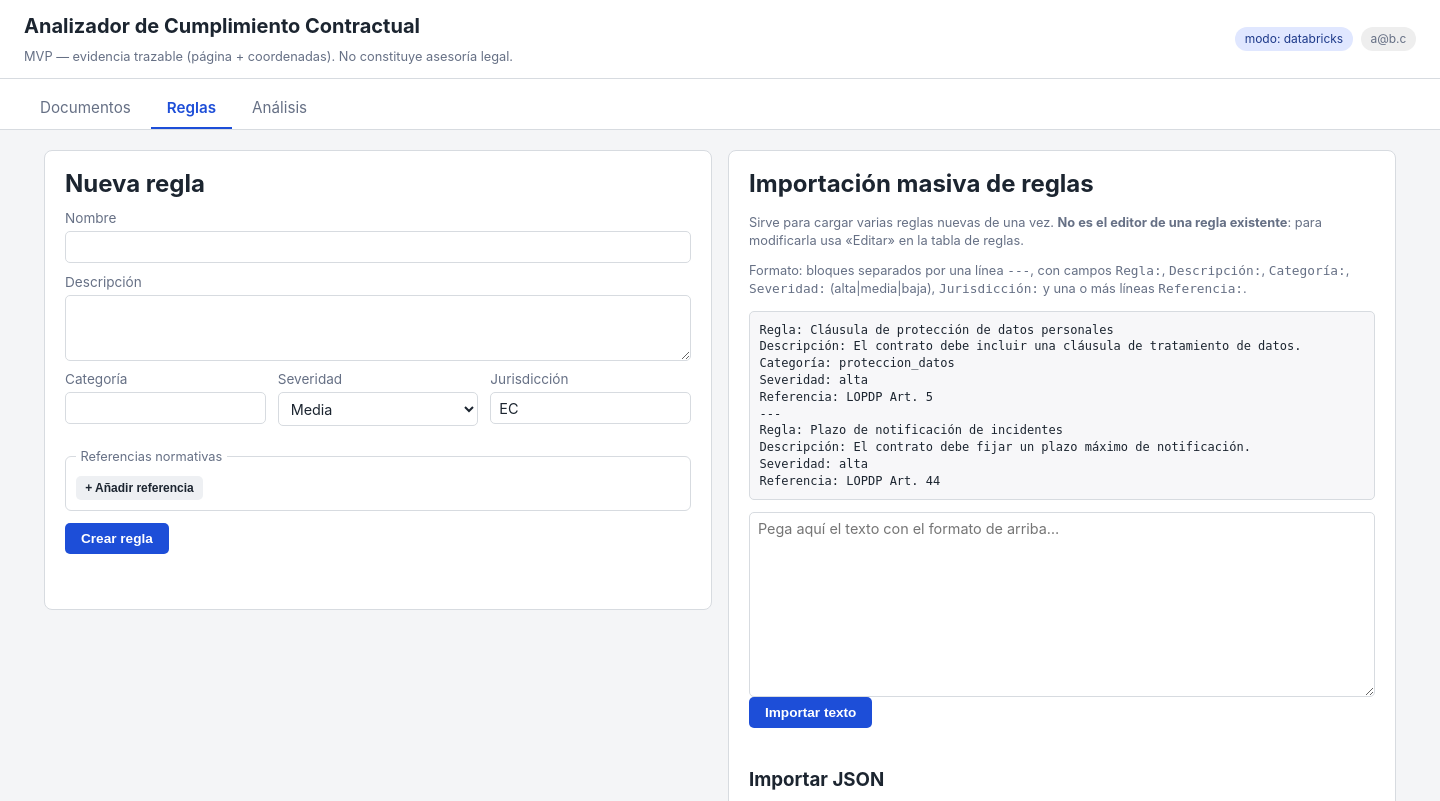
Scenario: App › la importación de reglas en texto lista los errores de formato por bloque
In the text box named "Texto de reglas": {"x": 1062, "y": 604} [749,512,1375,697], type "Regla: x"
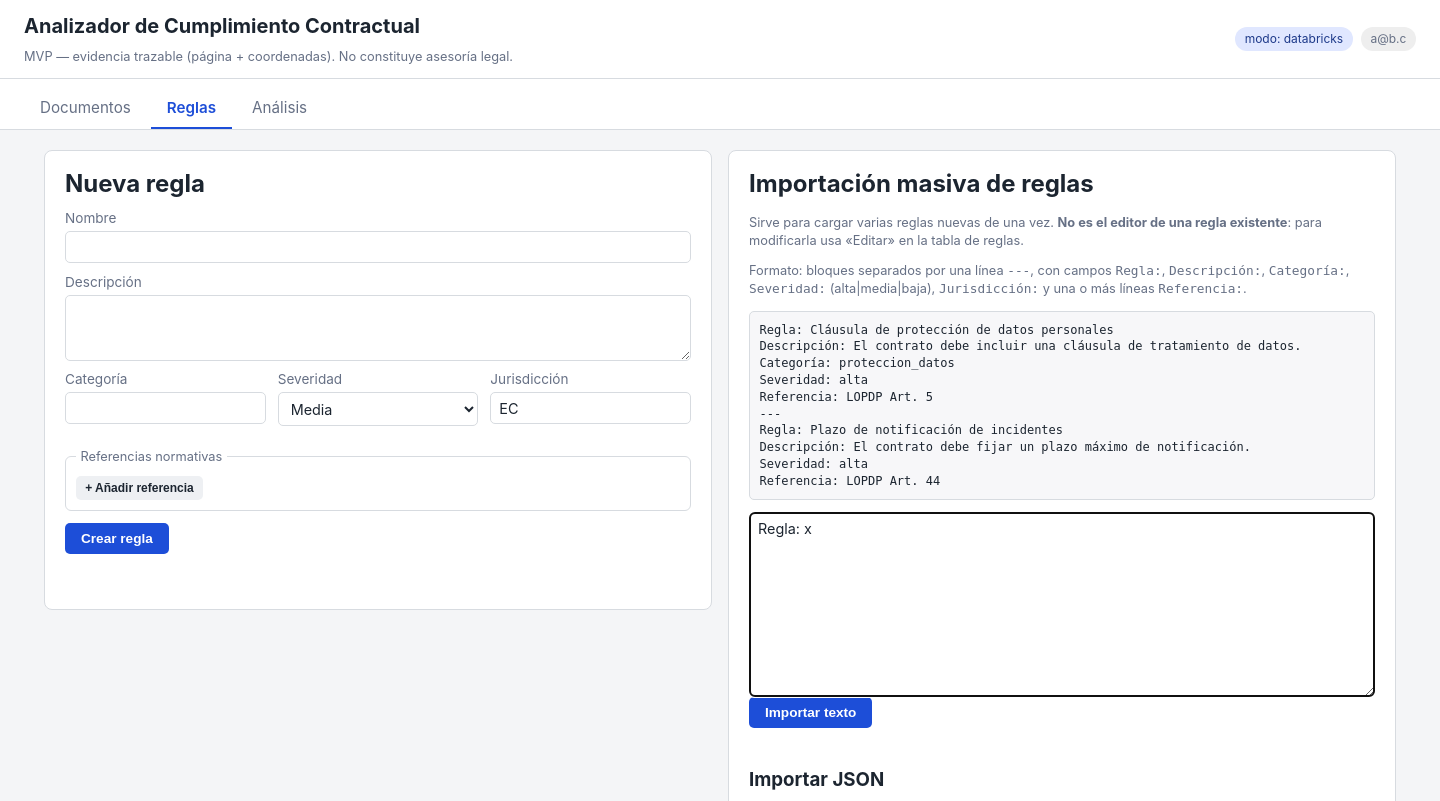
Click the button "Importar texto": {"x": 811, "y": 712} [749,697,872,728]
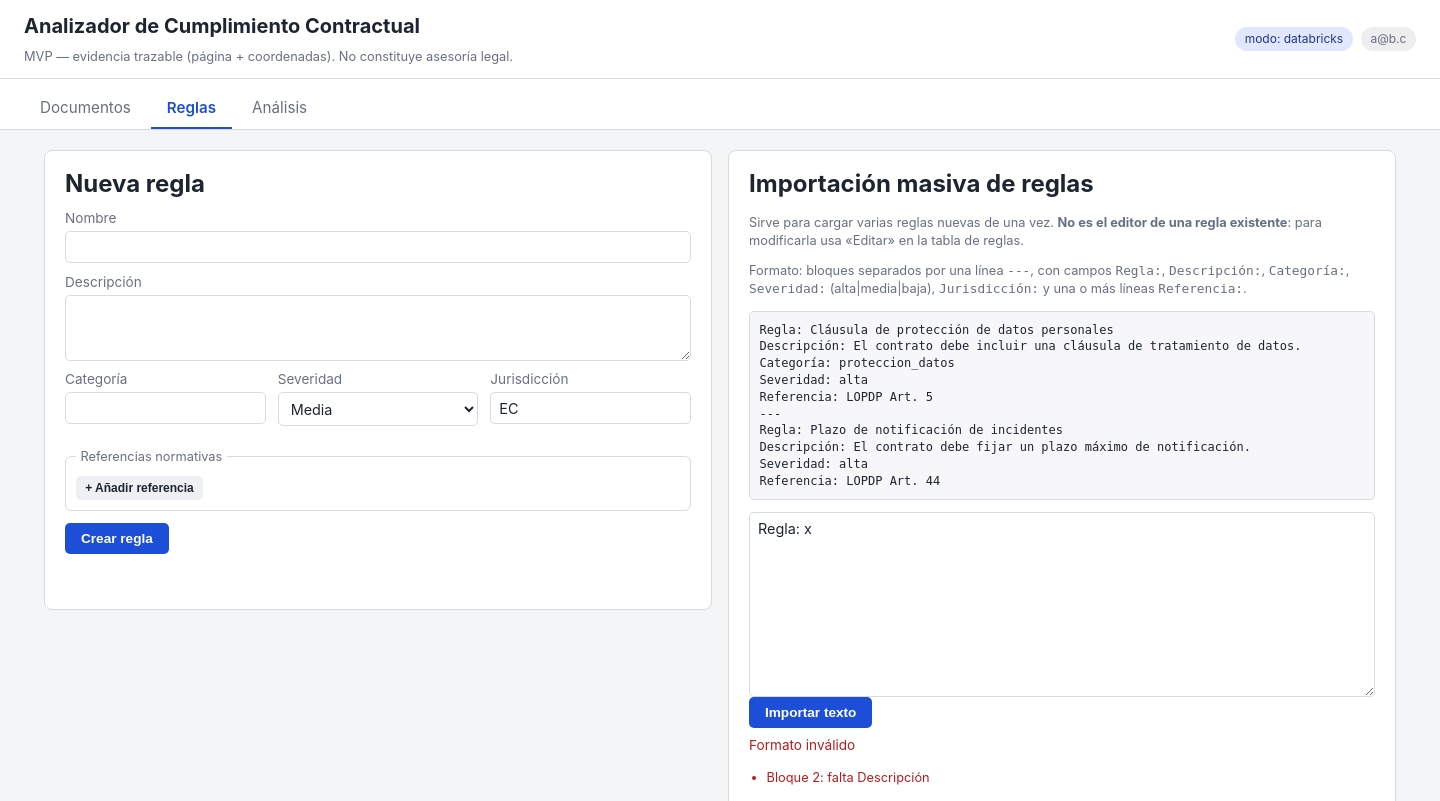
Expected: the list item "Bloque 2: falta Descripción" is shown, [767,770,930,784]
Expected: the text "Formato inválido" is shown, [749,737,855,753]
